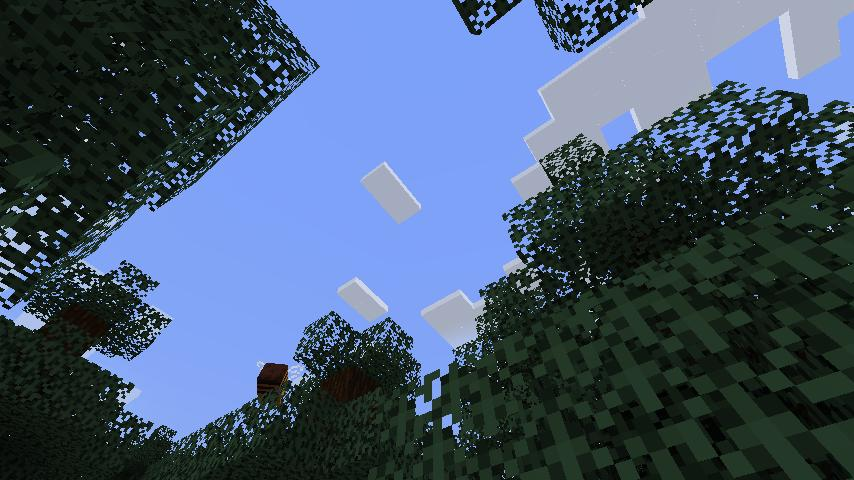bee: (253, 358, 301, 406)
